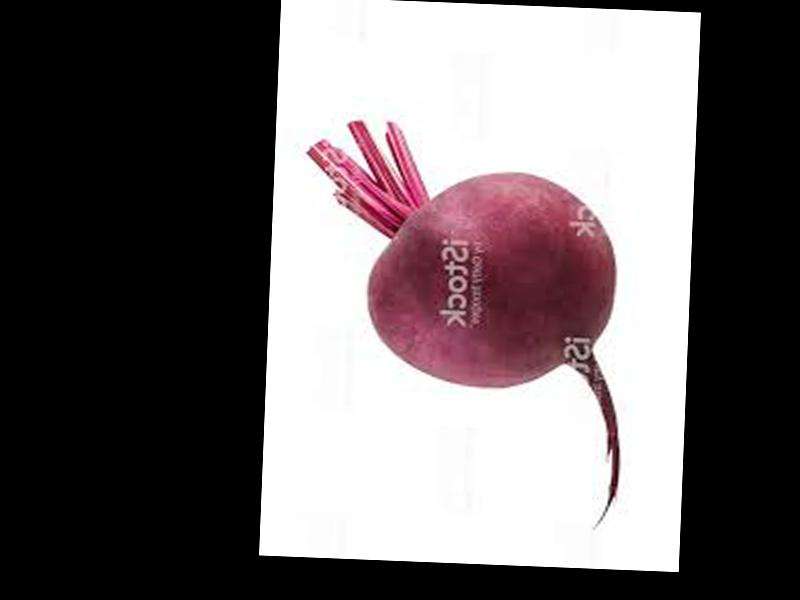Beet: (293, 117, 630, 529)
